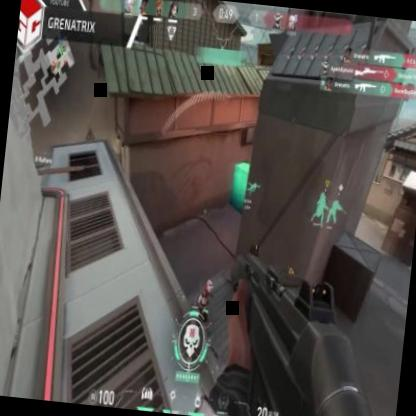enemy: (192, 274, 212, 341)
enemy_head: (207, 280, 212, 292)
